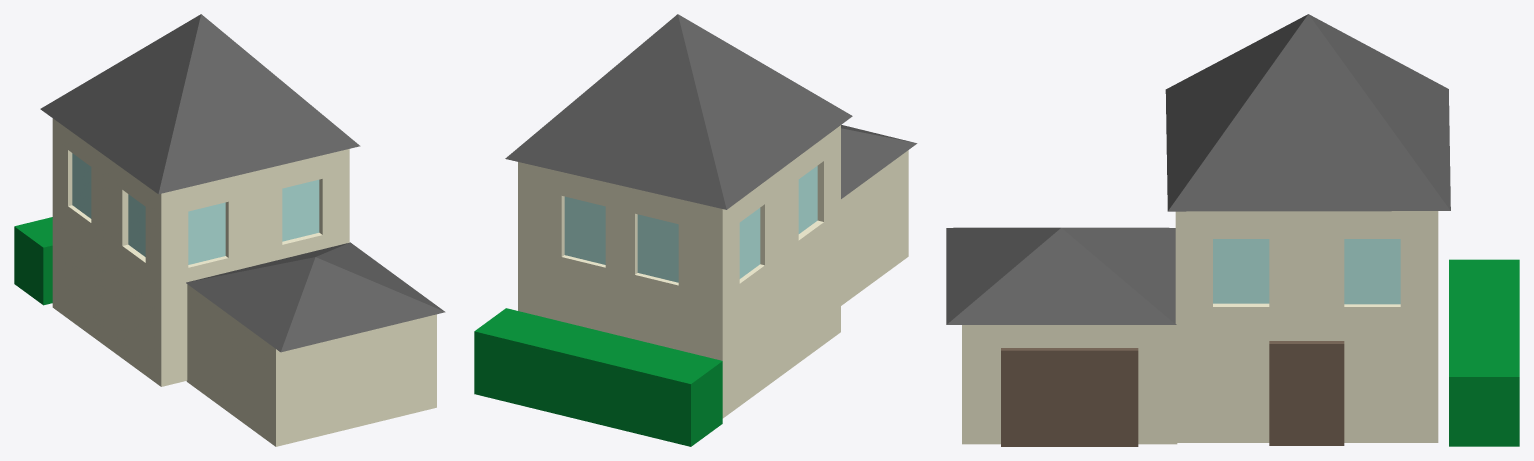
File: house2.fbx
3 views of the same model, side by side, from view 1: azimuth 30°, elevation 25°; view 2: azimuth 150°, elevation 25°; view 3: azimuth 270°, elevation 25° (orthographic). The views are drawn at different scales.
Parts seen in each view (by area): view 1: polySurface2; view 2: polySurface2; view 3: polySurface2.
Boxes of the visible parts, x1=… form: polySurface2: x1=14, y1=14, x2=445, y2=446; polySurface2: x1=474, y1=14, x2=917, y2=446; polySurface2: x1=946, y1=14, x2=1519, y2=446.
Size of the model in its own units: 0.5423 by 0.7896 by 1.09.
